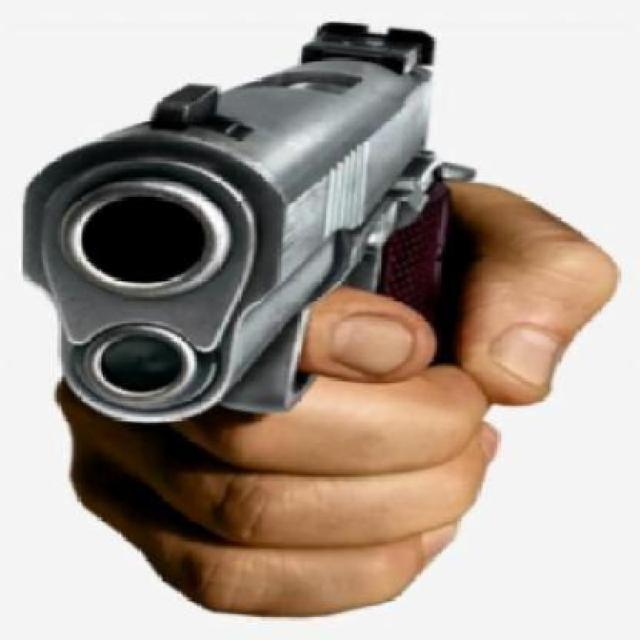gun: (26, 19, 486, 423)
